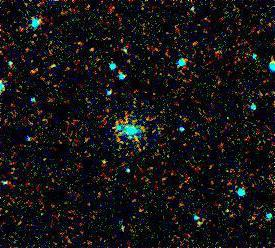star: (90, 146, 120, 176)
